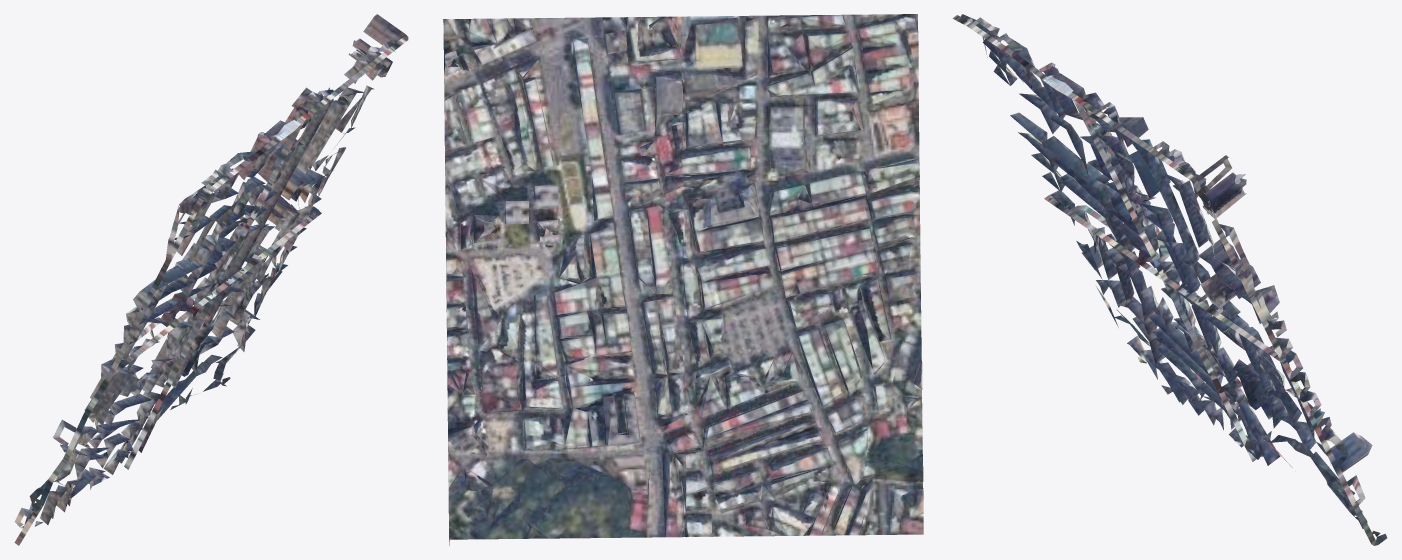
3 renders of one model, left to right at view 1: azimuth 30°, elevation 25°; view 2: azimuth 150°, elevation 25°; view 3: azimuth 270°, elevation 25°, orthographic. The views are drawn at different scales.
Bounding box in the file's own units: 619 × 578 × 531.
Materials: 1 (1 with a texture image).
